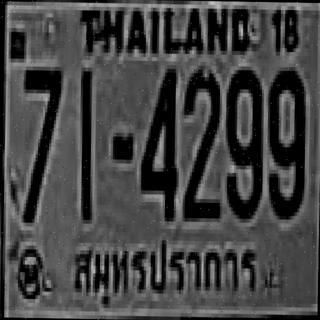N01: (78, 65, 92, 218)
N02: (181, 67, 221, 216)
N04: (138, 64, 176, 218)
N07: (21, 66, 61, 219), (21, 64, 61, 194)
N09: (224, 66, 262, 215), (266, 67, 304, 216)
P57: (68, 233, 266, 320)
